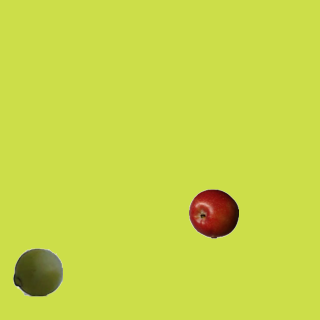Apple Braeburn: (188, 188, 238, 238)
Grape White 4: (12, 246, 62, 296)
